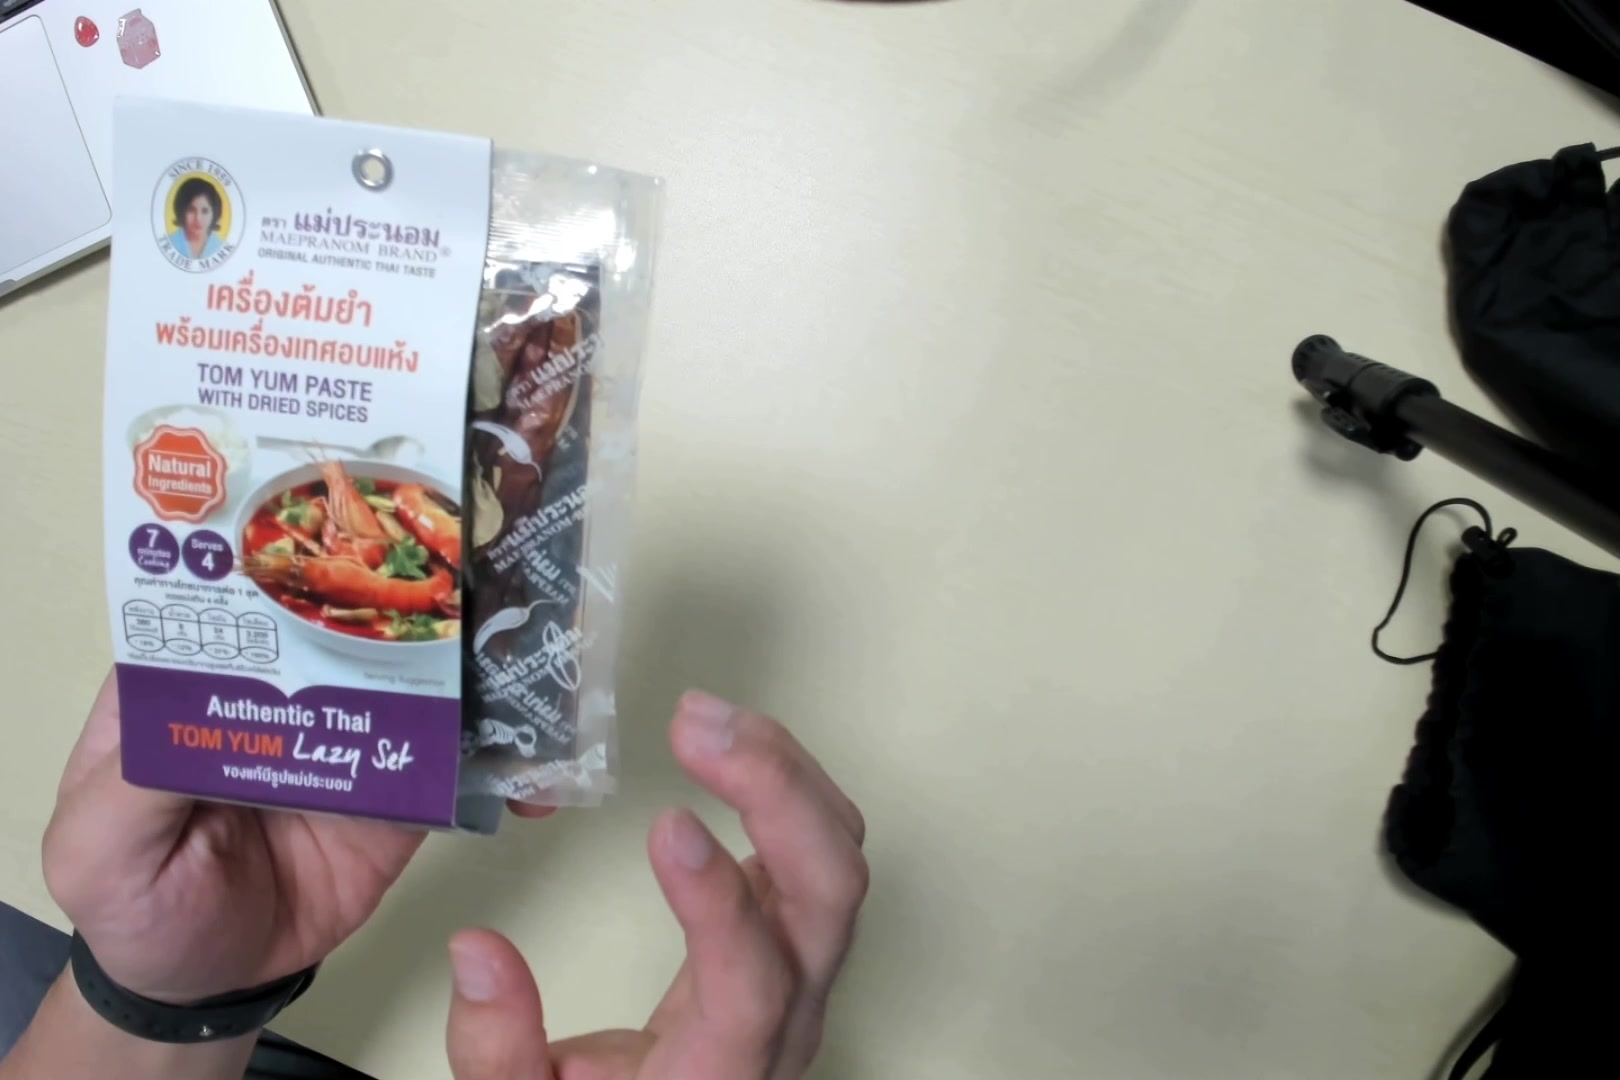OtherSauceDressingSoupBaswPaste_0-99g_Halal_NonHealthy: (105, 102, 661, 841)
